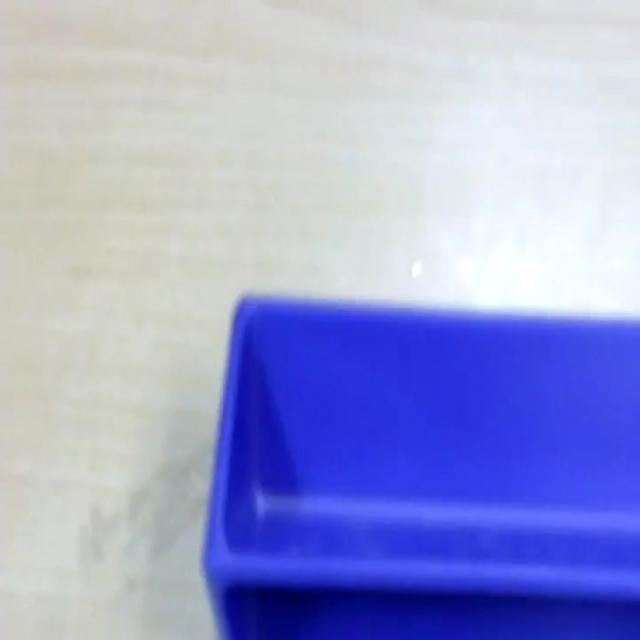blue_block: (201, 289, 638, 635)
